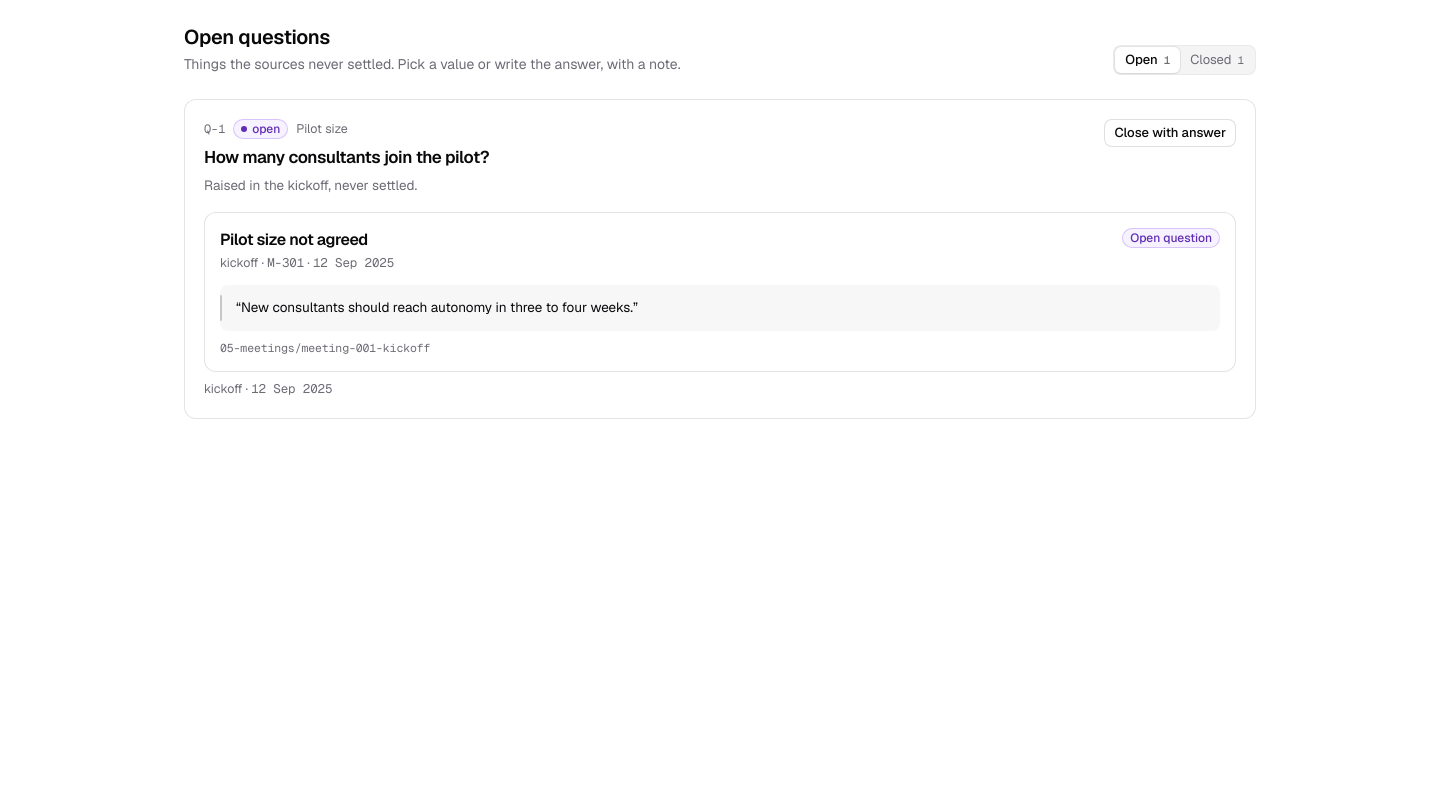
Test: OpenQuestions › closing › says when there is nothing to pick
Expected: the text "Q-1" is shown, [204,120,225,138]
Click the button "Close with answer" at (1170,133), box [1104,119,1236,147]
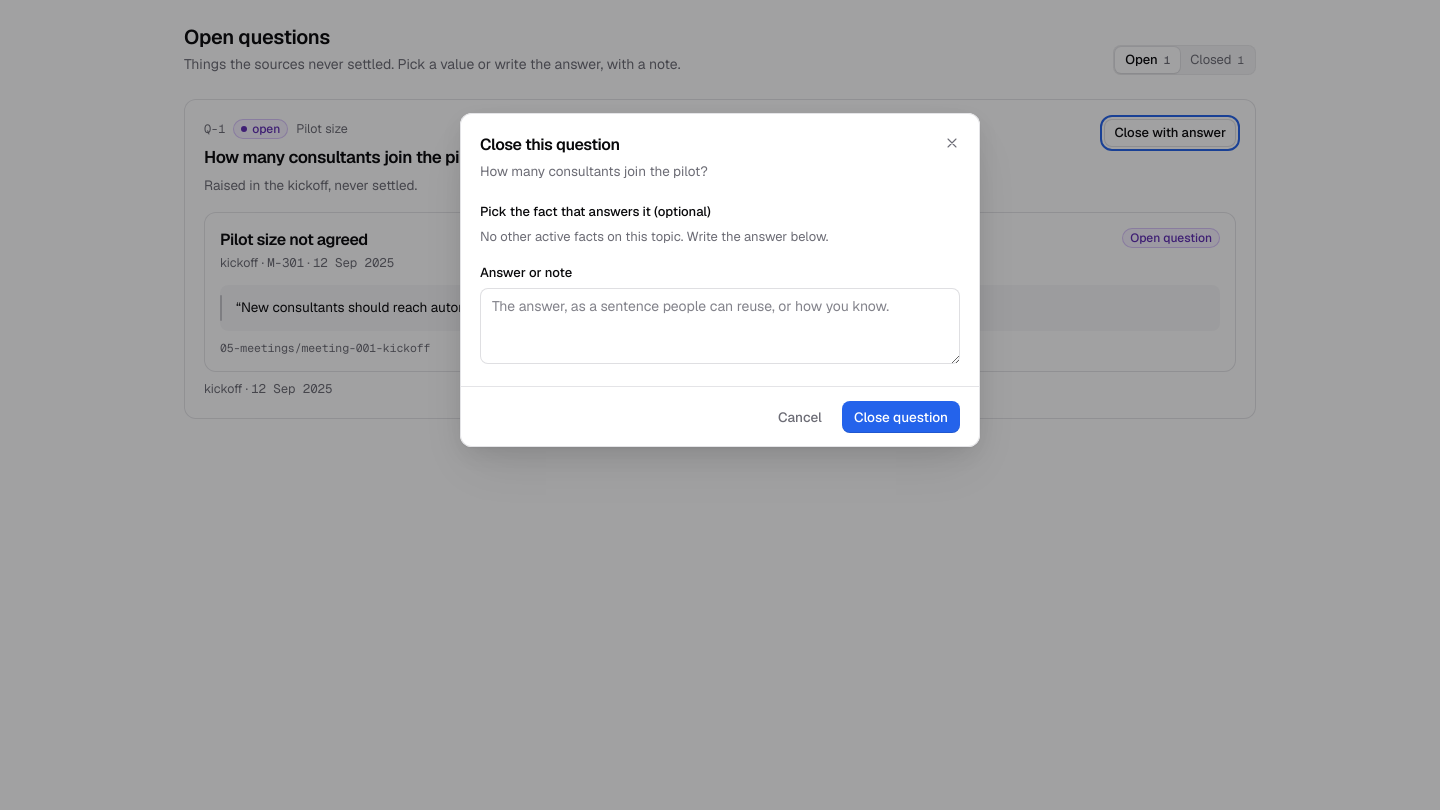
Result: the text "No other active facts on this topic. Write the answer below." is shown at [480,228,828,245]
